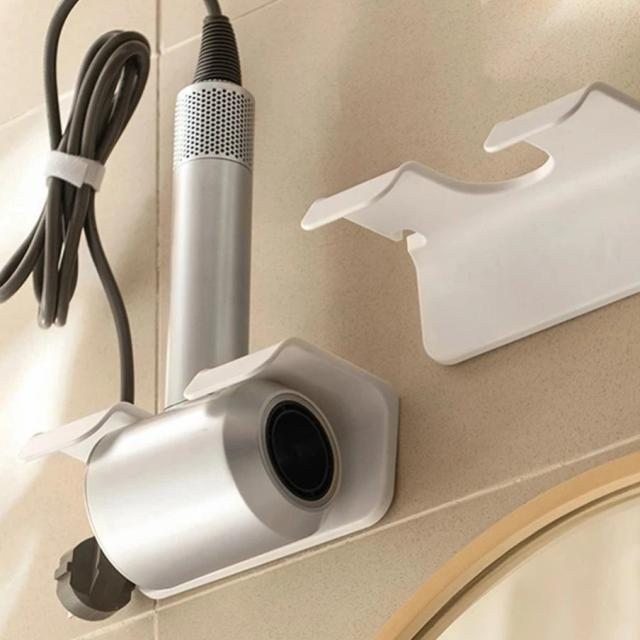dryer: (71, 3, 353, 606)
